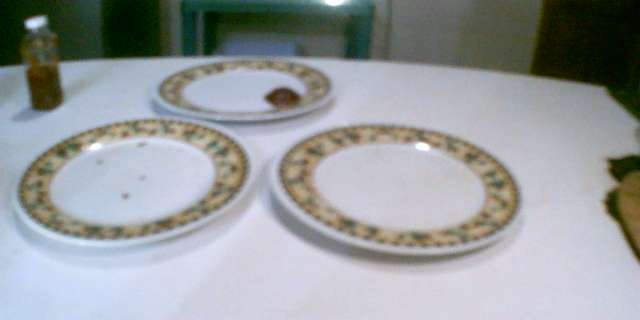empty_plate: (267, 117, 532, 263), (6, 111, 260, 254)
ketchup_bottle: (15, 7, 67, 113)
ketchup_portion: (258, 82, 304, 111)
